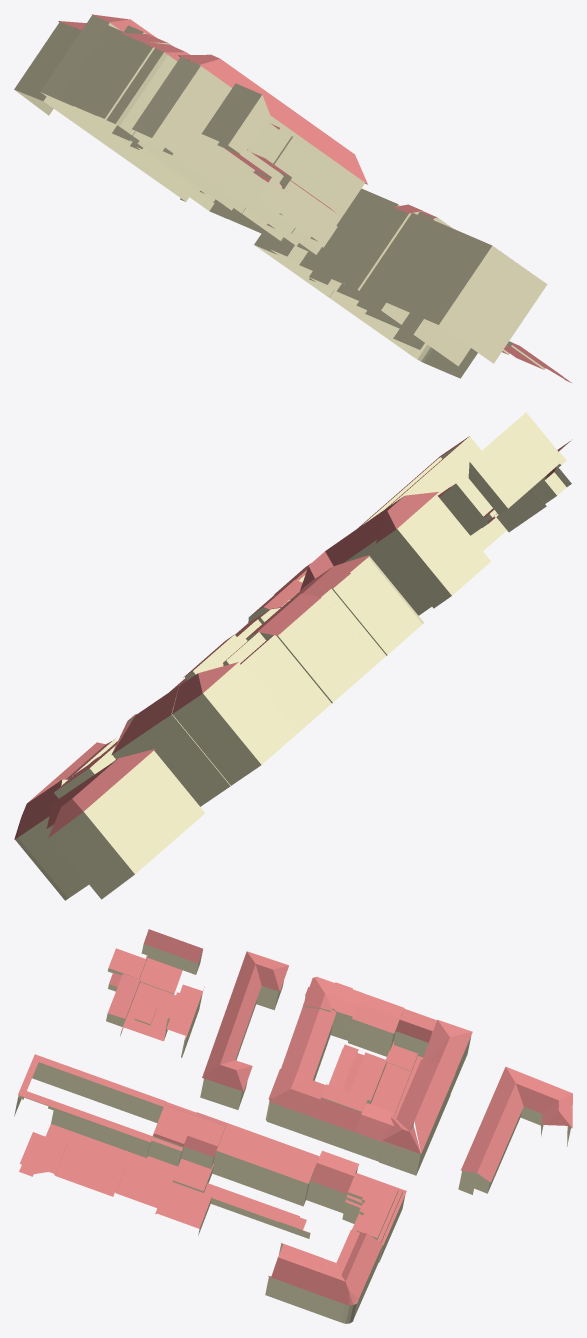
Rendered from tile_085.glb.
3 views of the same model, one above another, from view 1: azimuth 30°, elevation 25°; view 2: azimuth 150°, elevation 25°; view 3: azimuth 270°, elevation 25° (orthographic). The views are drawn at different scales.
Visible parts, largest first — view 1: Batched_Building_ID_49ADAAF8-205D-4CE7-8067-93F06CA547B3, Batched_Building_ID_BE213173-634F-47DB-8BED-3F103A5A5C1D; view 2: Batched_Building_ID_49ADAAF8-205D-4CE7-8067-93F06CA547B3, Batched_Building_ID_BE213173-634F-47DB-8BED-3F103A5A5C1D; view 3: Batched_Building_ID_BE213173-634F-47DB-8BED-3F103A5A5C1D, Batched_Building_ID_49ADAAF8-205D-4CE7-8067-93F06CA547B3.
Boxes of the visible parts, x1,y1,x2,y2 form: Batched_Building_ID_49ADAAF8-205D-4CE7-8067-93F06CA547B3: (14,15,547,378); Batched_Building_ID_BE213173-634F-47DB-8BED-3F103A5A5C1D: (58,14,571,382); Batched_Building_ID_49ADAAF8-205D-4CE7-8067-93F06CA547B3: (15,412,571,900); Batched_Building_ID_BE213173-634F-47DB-8BED-3F103A5A5C1D: (14,436,572,839); Batched_Building_ID_BE213173-634F-47DB-8BED-3F103A5A5C1D: (18,929,572,1305); Batched_Building_ID_49ADAAF8-205D-4CE7-8067-93F06CA547B3: (14,944,570,1323).
Bounding box in the file's own units: 119 × 130 × 223.
